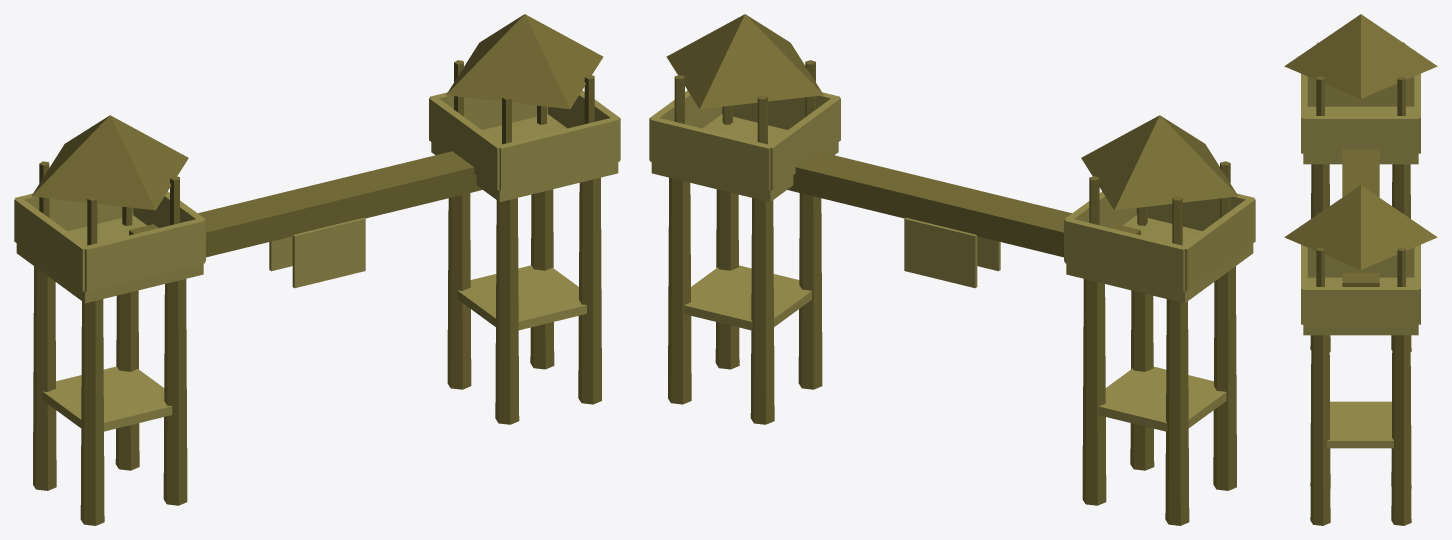
The model's file is frog_gate_broken.glb.
The picture shows the model from 3 angles, left to right: view 1: azimuth 30°, elevation 25°; view 2: azimuth 150°, elevation 25°; view 3: azimuth 270°, elevation 25°; orthographic projection. The views are drawn at different scales.
Visible parts, largest first — view 1: frog_gate_piece2, frog_gate_piece6, frog_gate_piece7, frog_gate_piece8, frog_gate_piece3, frog_gate_piece0, frog_gate_piece9, frog_gate_piece1, frog_gate_piece4, frog_gate_piece5, frog_gate_piece10, frog_gate_piece12 (+2 smaller); view 2: frog_gate_piece2, frog_gate_piece7, frog_gate_piece6, frog_gate_piece10, frog_gate_piece4, frog_gate_piece3, frog_gate_piece5, frog_gate_piece0, frog_gate_piece8, frog_gate_piece1, frog_gate_piece11, frog_gate_piece9 (+1 smaller); view 3: frog_gate_piece3, frog_gate_piece2, frog_gate_piece6, frog_gate_piece0, frog_gate_piece10, frog_gate_piece8, frog_gate_piece5, frog_gate_piece7, frog_gate_piece4, frog_gate_piece1, frog_gate_piece11.
Part boxes in pixels (bbox=[...]): frog_gate_piece2: bbox=[14, 115, 169, 409]; frog_gate_piece6: bbox=[447, 181, 601, 424]; frog_gate_piece7: bbox=[33, 290, 162, 525]; frog_gate_piece8: bbox=[377, 44, 593, 193]; frog_gate_piece3: bbox=[472, 18, 620, 269]; frog_gate_piece0: bbox=[156, 148, 244, 473]; frog_gate_piece9: bbox=[263, 183, 497, 288]; frog_gate_piece1: bbox=[321, 173, 557, 279]; frog_gate_piece4: bbox=[231, 172, 370, 271]; frog_gate_piece5: bbox=[392, 112, 550, 269]; frog_gate_piece10: bbox=[439, 14, 532, 147]; frog_gate_piece12: bbox=[128, 437, 187, 505]; frog_gate_piece2: bbox=[1064, 115, 1255, 369]; frog_gate_piece7: bbox=[1082, 285, 1236, 525]; frog_gate_piece6: bbox=[668, 136, 840, 424]; frog_gate_piece10: bbox=[650, 14, 823, 197]; frog_gate_piece4: bbox=[883, 184, 1085, 493]; frog_gate_piece3: bbox=[649, 16, 808, 297]; frog_gate_piece5: bbox=[668, 118, 864, 321]; frog_gate_piece0: bbox=[1017, 148, 1172, 444]; frog_gate_piece8: bbox=[760, 23, 878, 197]; frog_gate_piece1: bbox=[668, 132, 961, 337]; frog_gate_piece11: bbox=[747, 140, 896, 216]; frog_gate_piece9: bbox=[840, 134, 1000, 282]; frog_gate_piece3: bbox=[1301, 188, 1420, 447]; frog_gate_piece2: bbox=[1284, 14, 1437, 217]; frog_gate_piece6: bbox=[1310, 335, 1411, 525]; frog_gate_piece0: bbox=[1291, 69, 1379, 218]; frog_gate_piece10: bbox=[1357, 185, 1437, 292]; frog_gate_piece8: bbox=[1284, 201, 1343, 286]; frog_gate_piece5: bbox=[1337, 257, 1410, 455]; frog_gate_piece7: bbox=[1311, 168, 1411, 343]; frog_gate_piece4: bbox=[1342, 176, 1411, 341]; frog_gate_piece1: bbox=[1384, 353, 1411, 467]; frog_gate_piece11: bbox=[1406, 244, 1420, 280].
Size of the model in its own units: 4.83 by 3.05 by 1.33.
